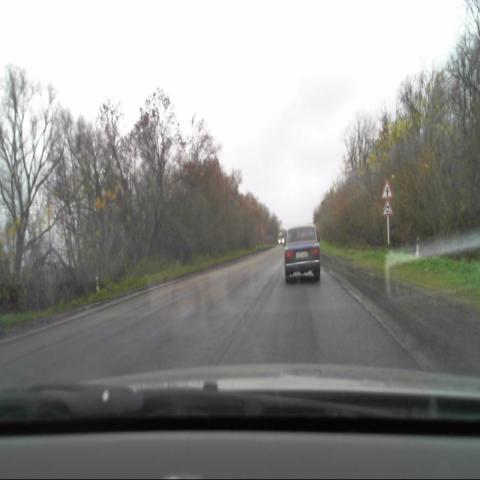2_3: (381, 178, 392, 199)
